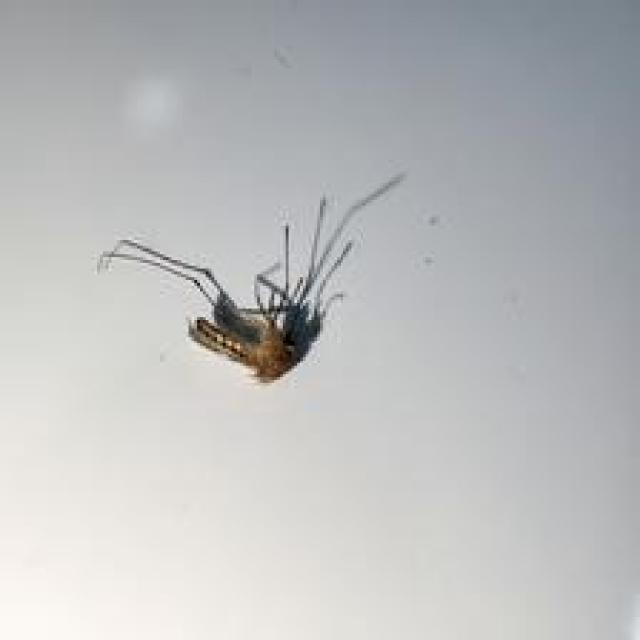Culex: (96, 168, 407, 386)
